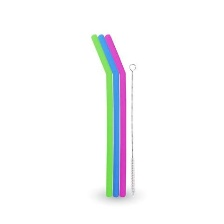drinking_straw: (88, 30, 129, 200)
